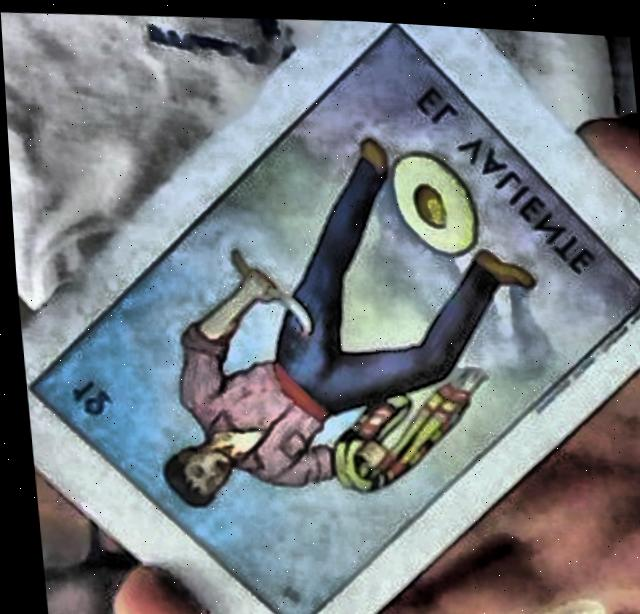El Valiente: (27, 20, 640, 614)
